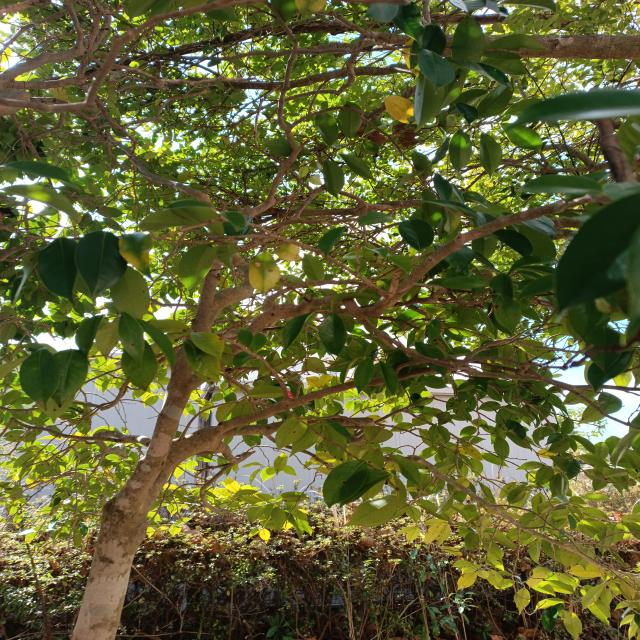Branch: (103, 321, 211, 512), (150, 426, 221, 506)
Twig: (216, 337, 579, 433), (241, 0, 301, 215), (109, 135, 220, 222), (1, 0, 106, 89), (0, 0, 86, 88), (170, 245, 224, 377), (221, 337, 287, 400), (239, 217, 360, 250), (230, 415, 375, 435), (375, 396, 452, 424)
